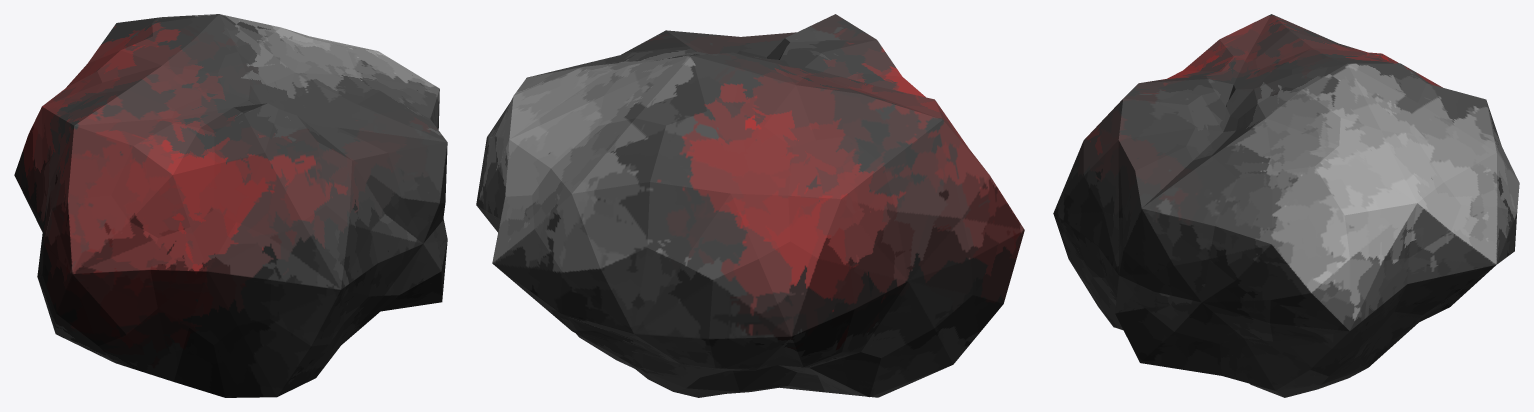
File: BloodRock2.glb
3 views of the same model, side by side, from view 1: azimuth 30°, elevation 25°; view 2: azimuth 150°, elevation 25°; view 3: azimuth 270°, elevation 25° (orthographic). The views are drawn at different scales.
Visible parts, largest first — view 1: BloodRock2; view 2: BloodRock2; view 3: BloodRock2.
Boxes of the visible parts, bbox=[...] form: BloodRock2: bbox=[14, 14, 447, 397]; BloodRock2: bbox=[476, 14, 1024, 397]; BloodRock2: bbox=[1053, 14, 1519, 397].
Bounding box in the file's own units: 3.93 × 2.85 × 3.81.
1 material, 1 textured.
